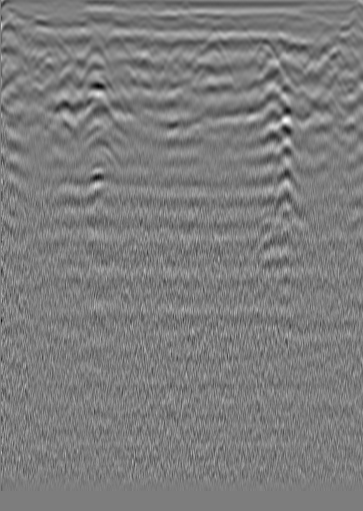가스: (57, 258, 89, 288)
상수: (324, 28, 344, 48)
오수: (26, 47, 46, 67)
우수: (202, 30, 222, 50)
